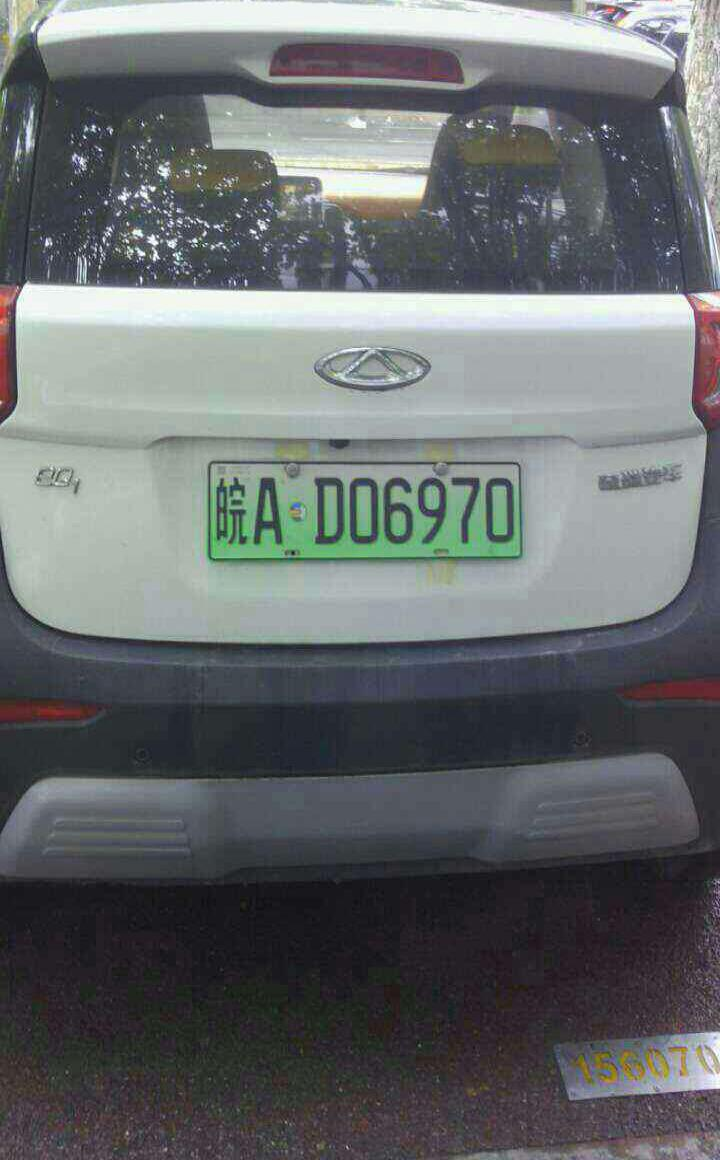car_id: (204, 460, 522, 555)
